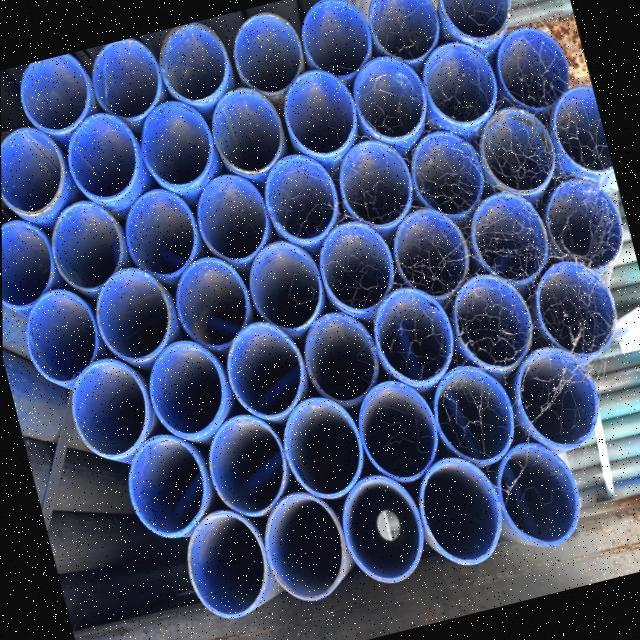pipe: (407, 454, 505, 566), (263, 492, 355, 601), (187, 513, 280, 618), (491, 445, 584, 547), (71, 351, 160, 457), (128, 431, 215, 537), (341, 474, 425, 583), (517, 346, 602, 449), (208, 414, 293, 516), (369, 286, 458, 382), (282, 394, 364, 498), (359, 379, 441, 479), (150, 336, 231, 434), (438, 363, 517, 462), (539, 258, 619, 355), (226, 321, 307, 416), (301, 311, 384, 403), (456, 271, 535, 367), (472, 189, 551, 283), (96, 263, 173, 359), (487, 24, 575, 108), (478, 105, 560, 195), (173, 252, 250, 347), (420, 40, 504, 127), (140, 95, 219, 187), (351, 52, 432, 141), (26, 287, 100, 384), (395, 204, 472, 297), (264, 150, 341, 243), (339, 138, 418, 228), (210, 83, 288, 174), (547, 177, 624, 269), (249, 237, 326, 328), (126, 185, 203, 276), (52, 196, 126, 290), (318, 221, 397, 309), (69, 108, 145, 199), (410, 128, 488, 216), (197, 169, 271, 260), (1, 124, 73, 215), (284, 67, 360, 153), (92, 36, 168, 118), (236, 10, 309, 93), (303, 0, 380, 78), (160, 20, 234, 101), (21, 52, 96, 130), (553, 83, 614, 172), (1, 217, 57, 307), (368, 0, 443, 61), (443, 0, 514, 41)
